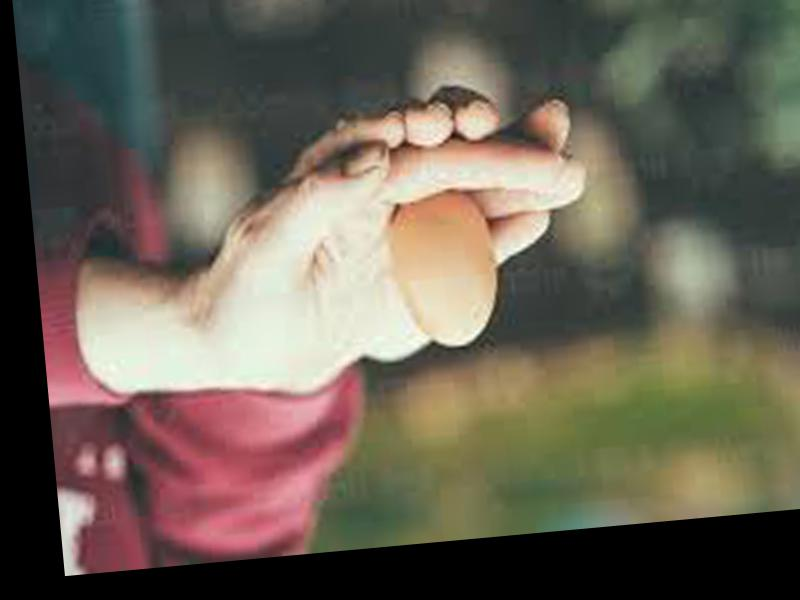Eggs: (386, 191, 501, 350)
